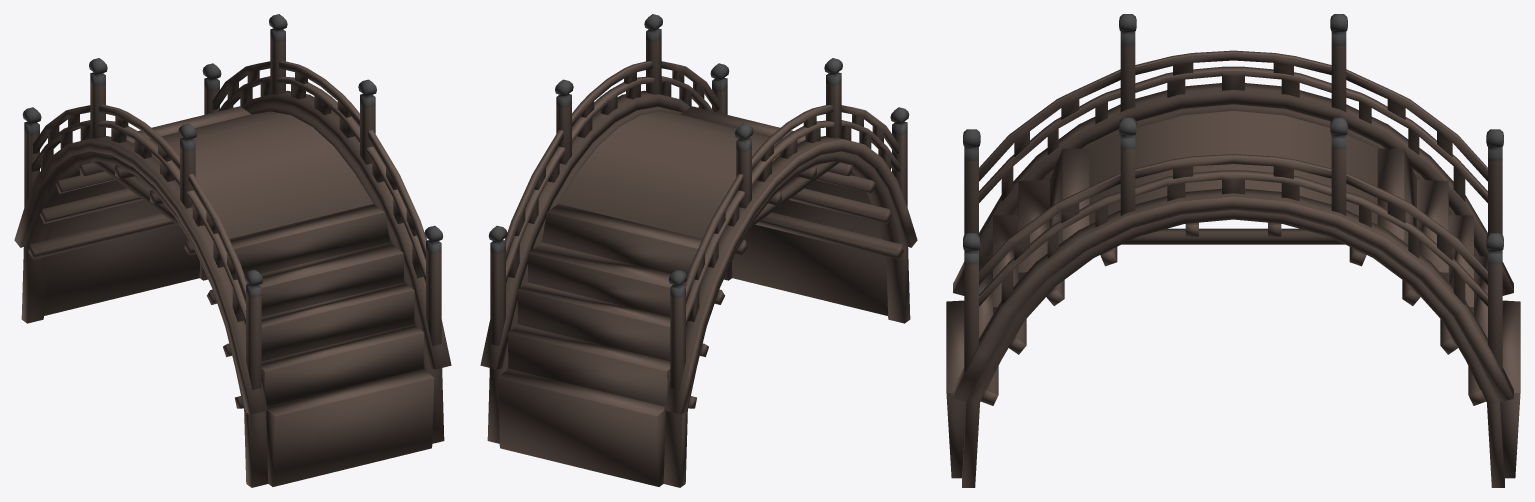
File: furnishings-outdoor-drumbridge_v1.glb
The picture shows the model from 3 angles, left to right: view 1: azimuth 30°, elevation 25°; view 2: azimuth 150°, elevation 25°; view 3: azimuth 270°, elevation 25°; orthographic projection. The views are drawn at different scales.
Parts seen in each view (by area): view 1: DrumBridge.001; view 2: DrumBridge.001; view 3: DrumBridge.001.
Boxes of the visible parts, left/top/right/bottom form: DrumBridge.001: left=14, top=14, right=451, bottom=487; DrumBridge.001: left=480, top=14, right=917, bottom=487; DrumBridge.001: left=946, top=14, right=1520, bottom=487.
Bounding box in the file's own units: 7.29 × 10.85 × 15.41.
